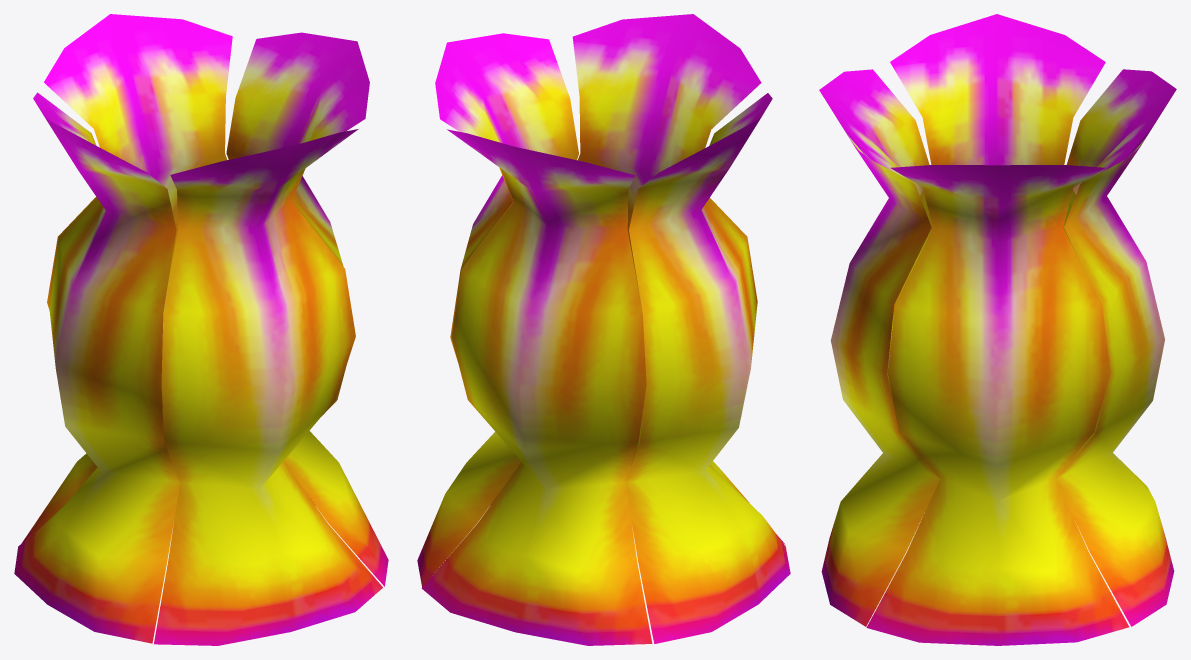
File: INST_TROLLHOLE_PLATPLANTTOP.fbx
The picture shows the model from 3 angles, left to right: view 1: azimuth 30°, elevation 25°; view 2: azimuth 150°, elevation 25°; view 3: azimuth 270°, elevation 25°; orthographic projection.
Parts seen in each view (by area): view 1: INST_TROLLHOLE_PLATPLANTTOP; view 2: INST_TROLLHOLE_PLATPLANTTOP; view 3: INST_TROLLHOLE_PLATPLANTTOP.
Boxes of the visible parts, <box> form: INST_TROLLHOLE_PLATPLANTTOP: <box>14,14,388,645</box>; INST_TROLLHOLE_PLATPLANTTOP: <box>417,14,790,645</box>; INST_TROLLHOLE_PLATPLANTTOP: <box>819,14,1176,645</box>.
Bounding box in the file's own units: 5237 × 7782 × 5237.
1 material, 1 textured.
